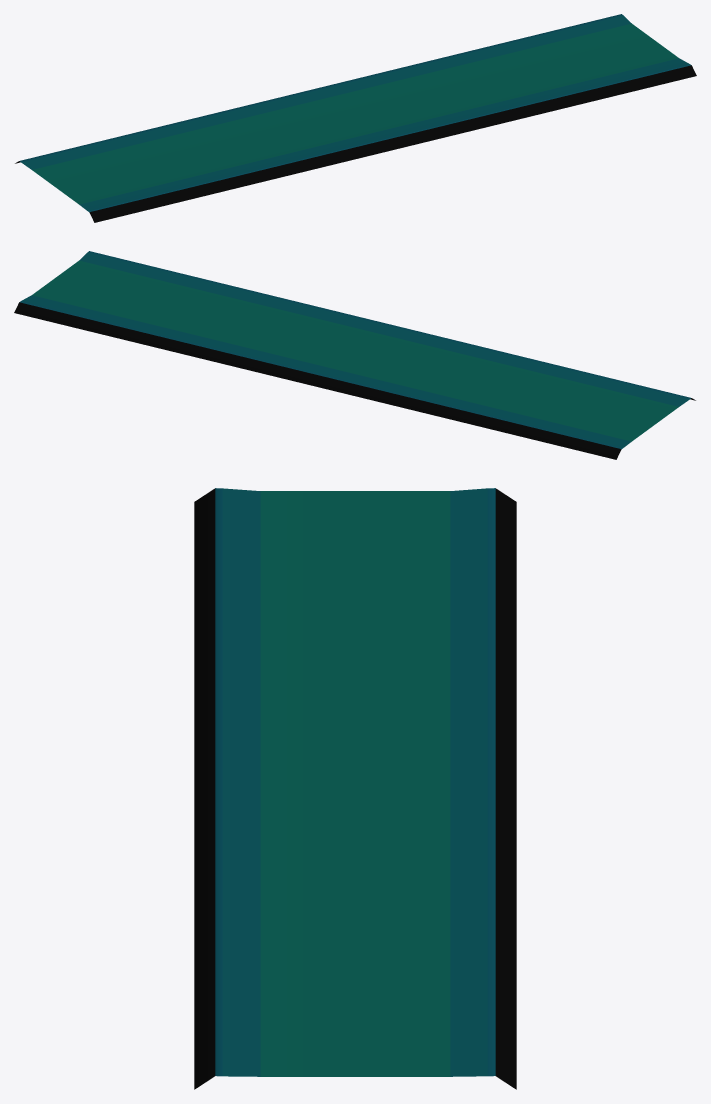
Rendered from River.fbx.
3 views of the same model, one above another, from view 1: azimuth 30°, elevation 25°; view 2: azimuth 150°, elevation 25°; view 3: azimuth 270°, elevation 25° (orthographic). The views are drawn at different scales.
Parts seen in each view (by area): view 1: River; view 2: River; view 3: River.
Part boxes in pixels (left/top/right/bottom): River: left=15, top=14, right=696, bottom=222; River: left=14, top=251, right=695, bottom=459; River: left=194, top=488, right=516, bottom=1089.
Size of the model in its own units: 931 by 10.16 by 216.
